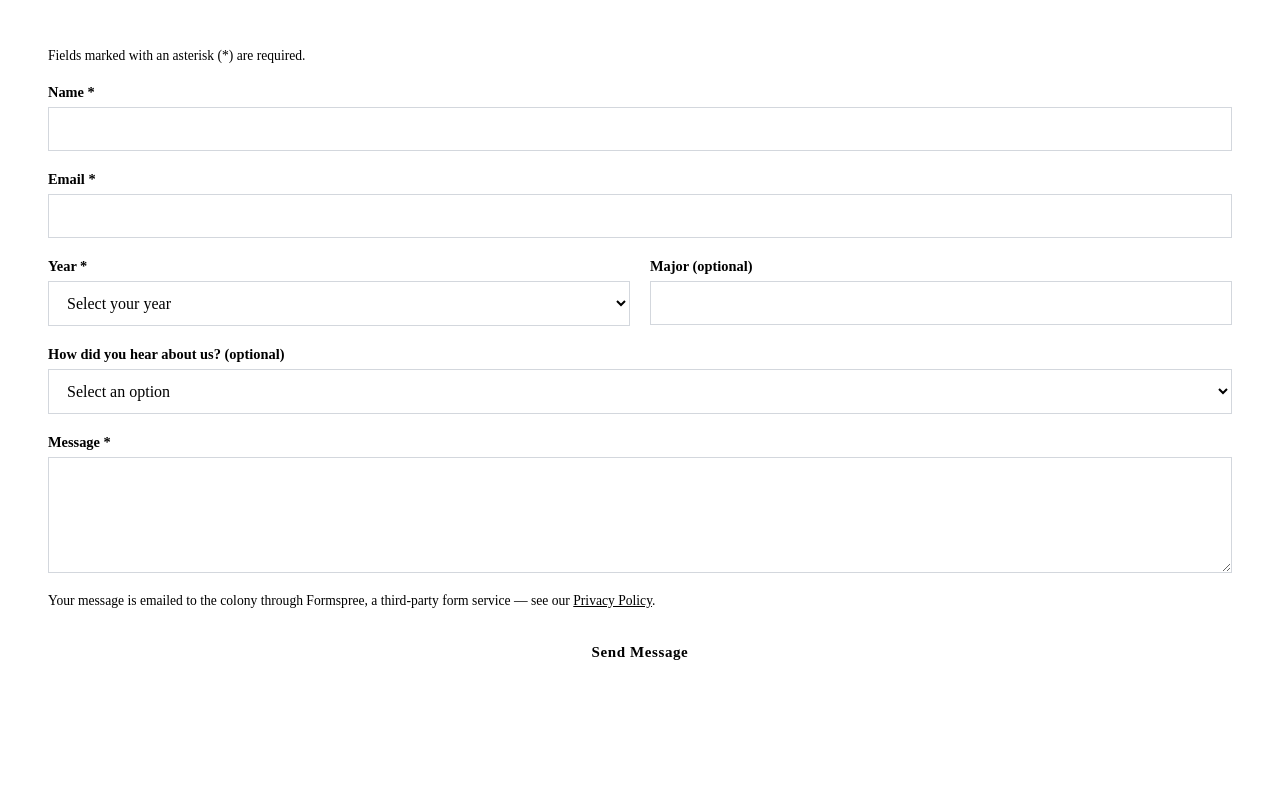
it: ContactForm › reports a server-side failure in the shared alert and keeps the form
The image size is (1280, 800).
In the field labelled "Name *": (640, 129) [48,107,1232,151], type "Founding Father"
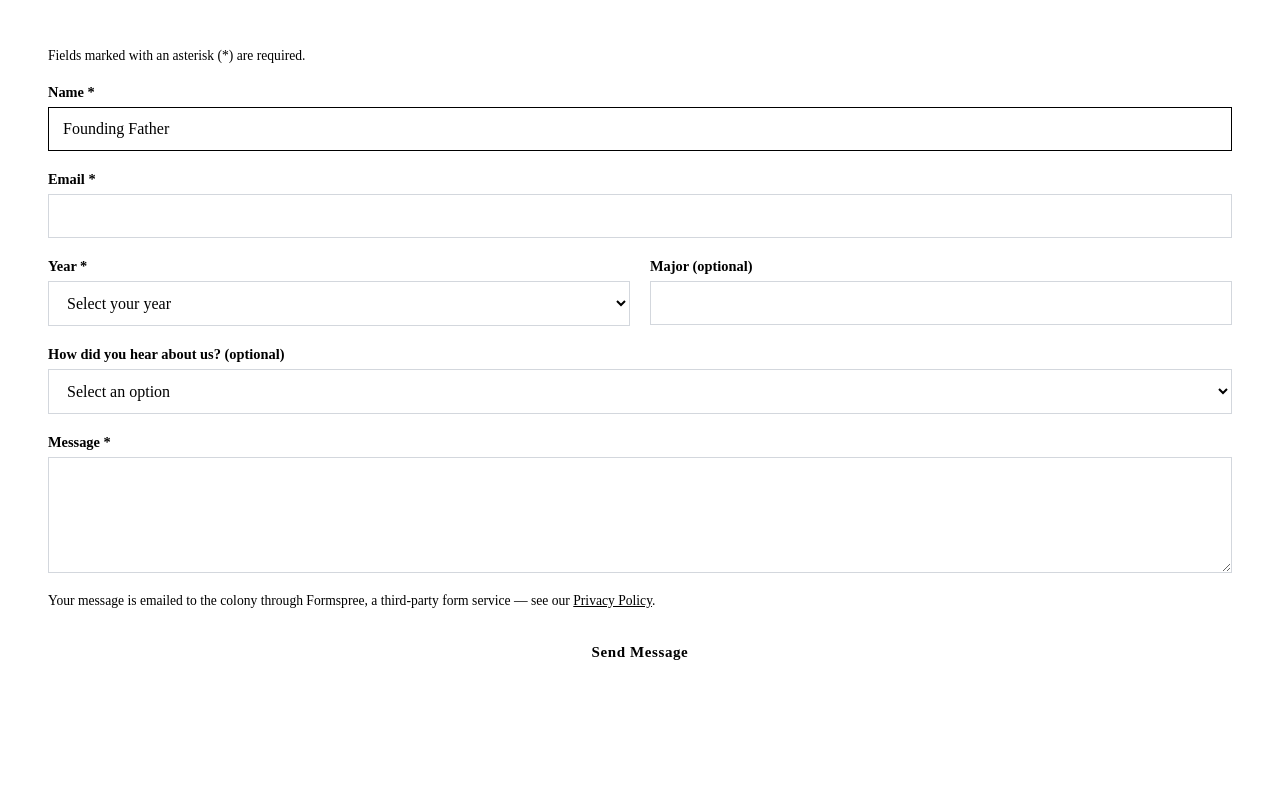
In the field labelled "Email *": (640, 216) [48,194,1232,238], type "founder@example.com"
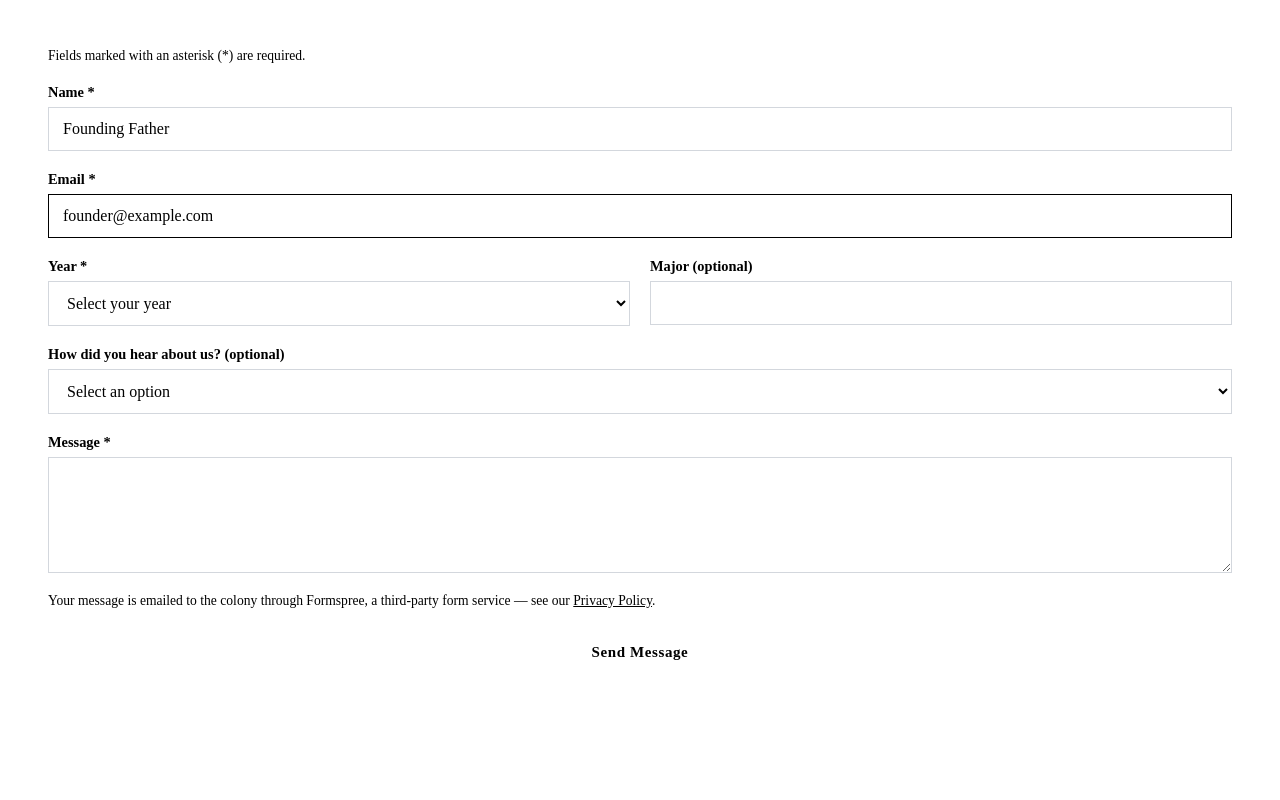
Select "Sophomore" in the dropdown labelled "Year *": (339, 304) [48,281,630,326]
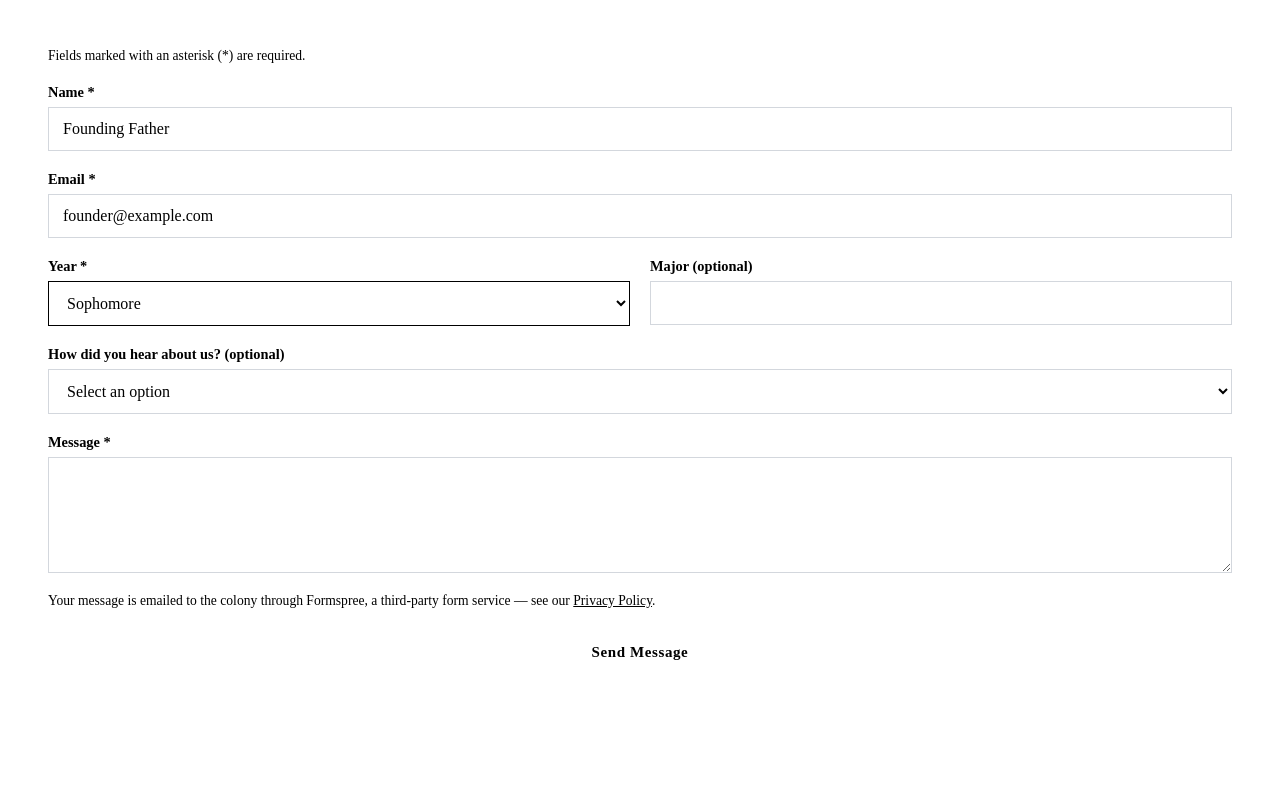
In the text box labelled "Message *": (640, 515) [48,457,1232,573], type "Interested in joining the founding class."
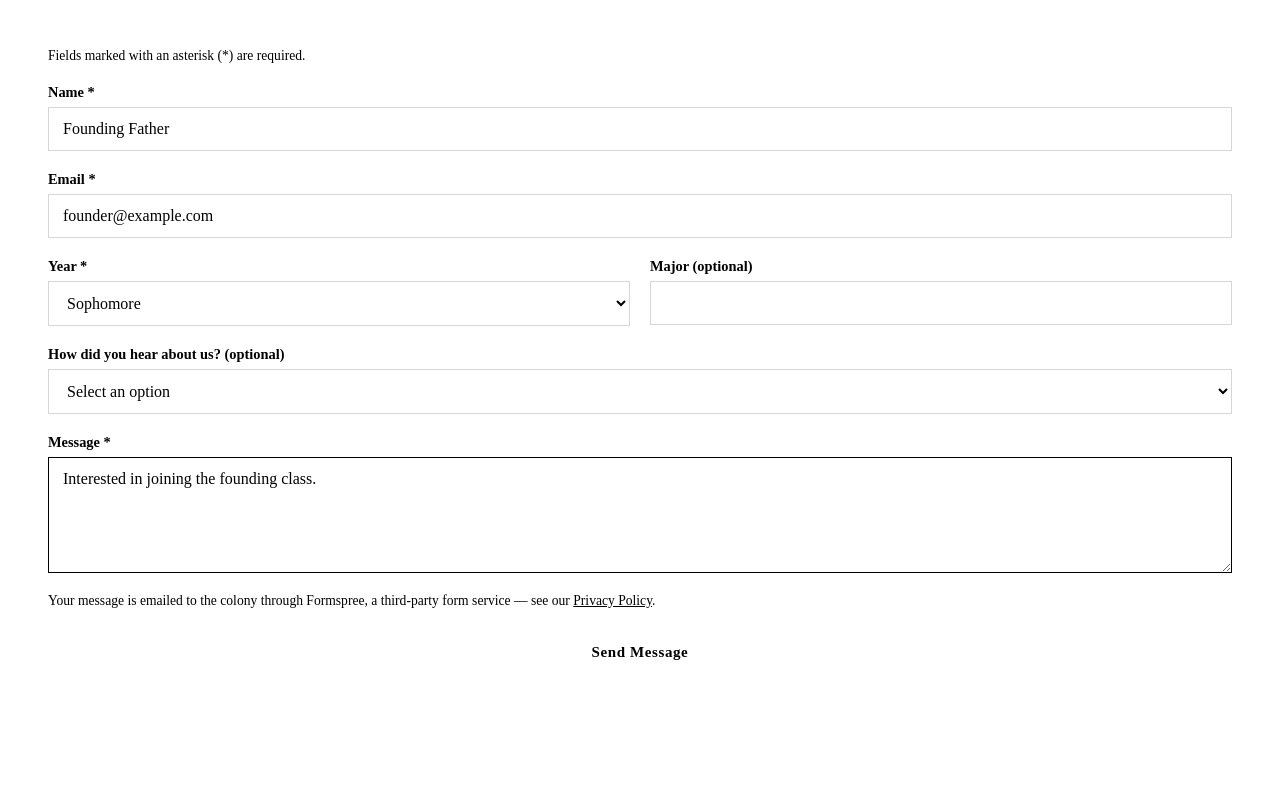
Click the button "Send Message": click(640, 652) [48,629,1232,676]
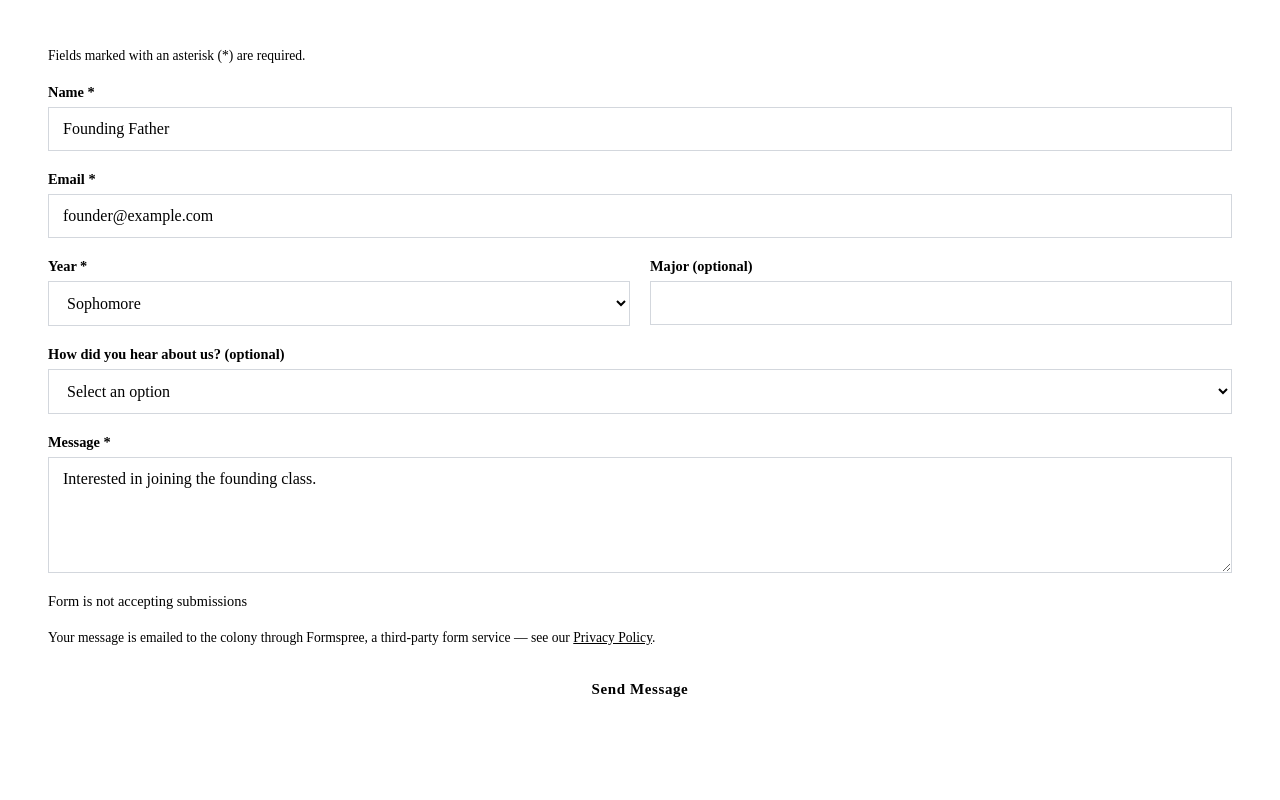
Expected: the button "Send Message" is enabled, [48,666,1232,713]
Result: the message reads "Form is not accepting submissions" at [48,593,247,609]
